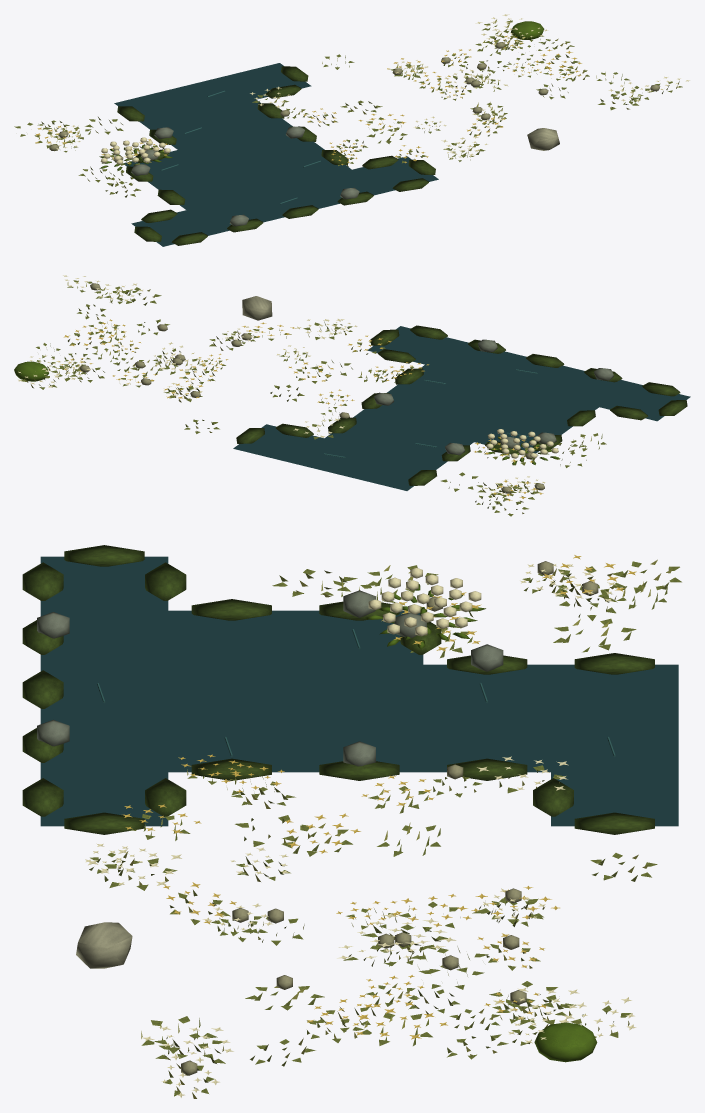
File: detail-patch-02-04.fbx
3 renders of one model, top to bottom at view 1: azimuth 30°, elevation 25°; view 2: azimuth 150°, elevation 25°; view 3: azimuth 270°, elevation 25°, orthographic. The views are drawn at different scales.
Visible parts, largest first — view 1: detail-patch-02-04__Water, detail-patch-02-04__Geometry; view 2: detail-patch-02-04__Water, detail-patch-02-04__Geometry; view 3: detail-patch-02-04__Water, detail-patch-02-04__Geometry.
Boxes of the visible parts, x1=… form: detail-patch-02-04__Water: x1=114, y1=63, x2=438, y2=246; detail-patch-02-04__Geometry: x1=14, y1=14, x2=689, y2=245; detail-patch-02-04__Water: x1=233, y1=326, x2=690, y2=490; detail-patch-02-04__Geometry: x1=14, y1=275, x2=687, y2=516; detail-patch-02-04__Water: x1=40, y1=556, x2=678, y2=826; detail-patch-02-04__Geometry: x1=22, y1=545, x2=681, y2=1098.
Size of the model in its own units: 10.34 by 0.4153 by 5.17.
Materials: 2 (1 with a texture image).
